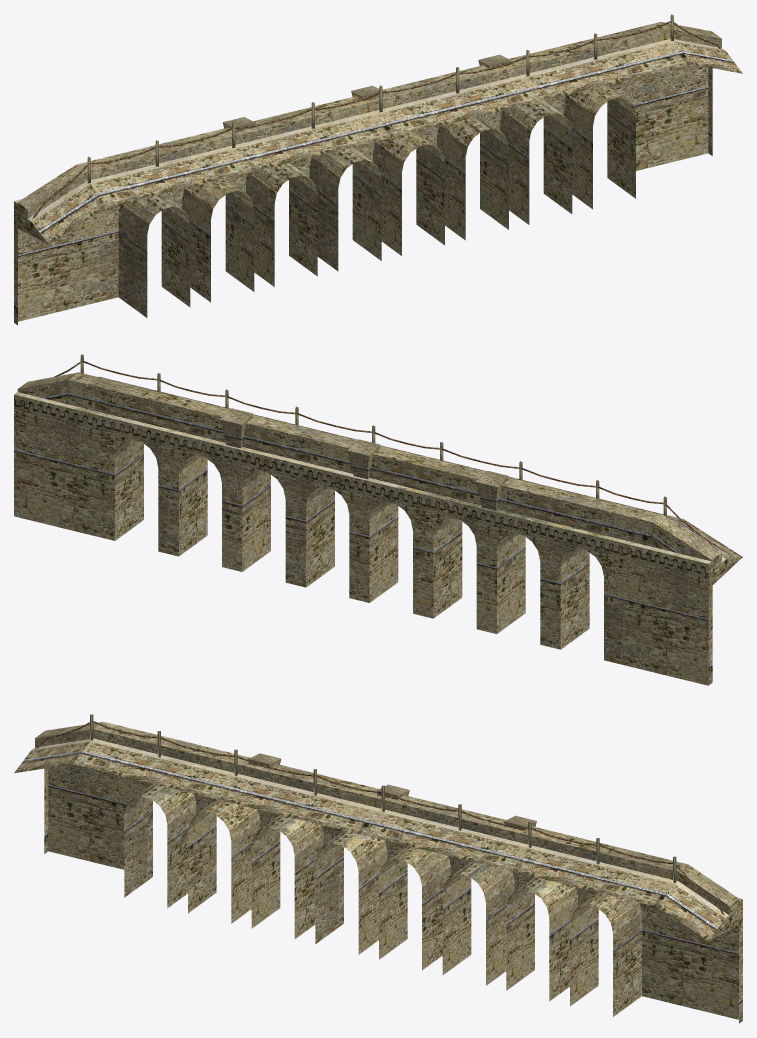
Rendered from bridge_edge_hele.glb.
3 views of the same model, one above another, from view 1: azimuth 30°, elevation 25°; view 2: azimuth 150°, elevation 25°; view 3: azimuth 330°, elevation 25° (orthographic).
Size of the model in its own units: 64.32 by 14.38 by 5.75.
Materials: 1 (1 with a texture image).
